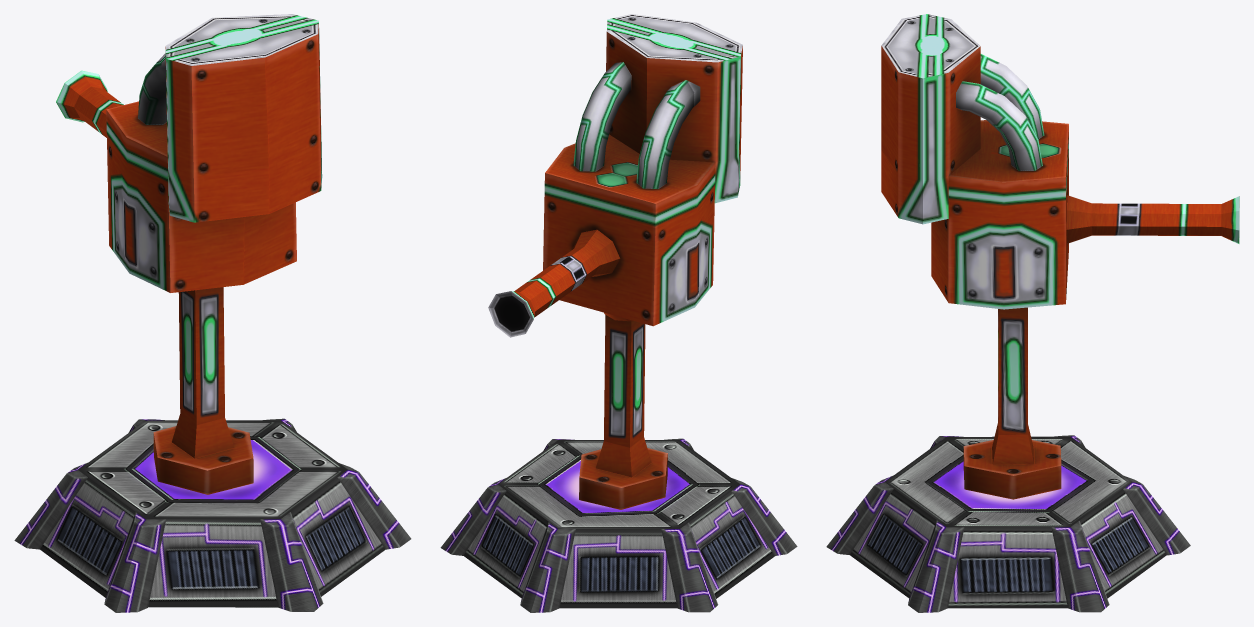
File: Tower_NormalAoE.FBX
3 renders of one model, left to right at view 1: azimuth 30°, elevation 25°; view 2: azimuth 150°, elevation 25°; view 3: azimuth 270°, elevation 25°, orthographic. The views are drawn at different scales.
Visible parts, largest first — view 1: Base_NormalAoE, Body_NormalAoE; view 2: Body_NormalAoE, Base_NormalAoE; view 3: Base_NormalAoE, Body_NormalAoE.
Boxes of the visible parts, x1,y1,x2,y2 form: Base_NormalAoE: (14,287,411,612); Body_NormalAoE: (56,14,322,292); Body_NormalAoE: (488,14,742,337); Base_NormalAoE: (440,315,797,612); Base_NormalAoE: (826,307,1190,612); Body_NormalAoE: (881,14,1239,309).
Bounding box in the file's own units: 25.65 × 44.12 × 33.43.
